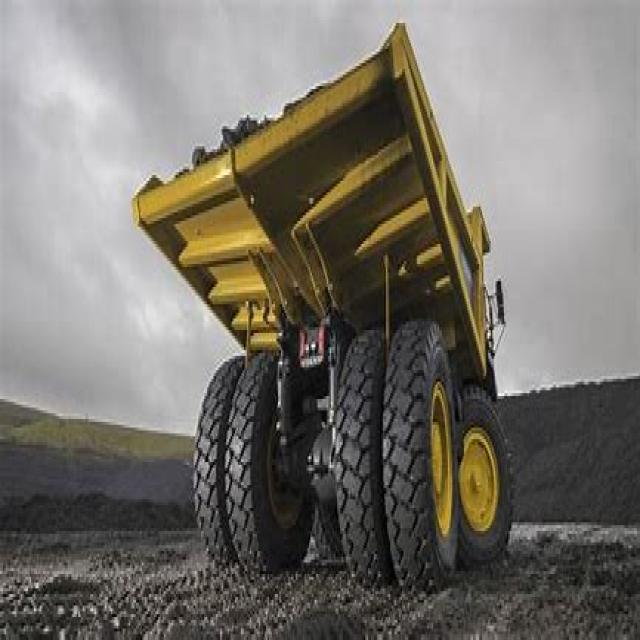dump_truck: (127, 9, 520, 594)
